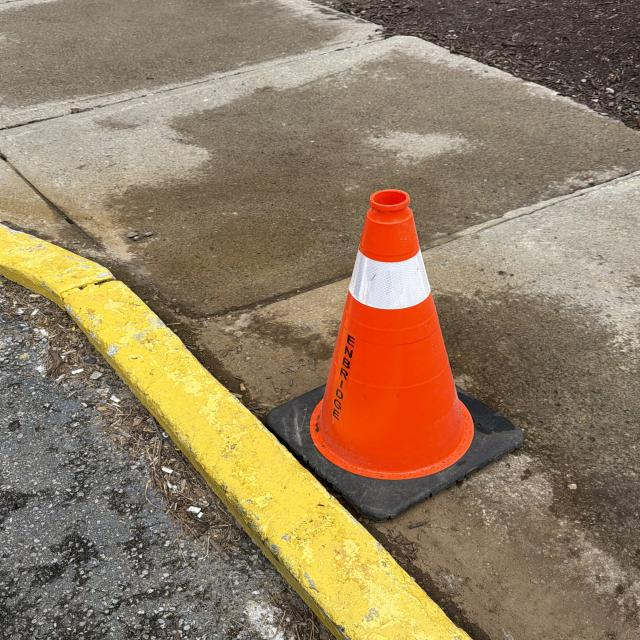Traffic Cone: (262, 188, 523, 522)
